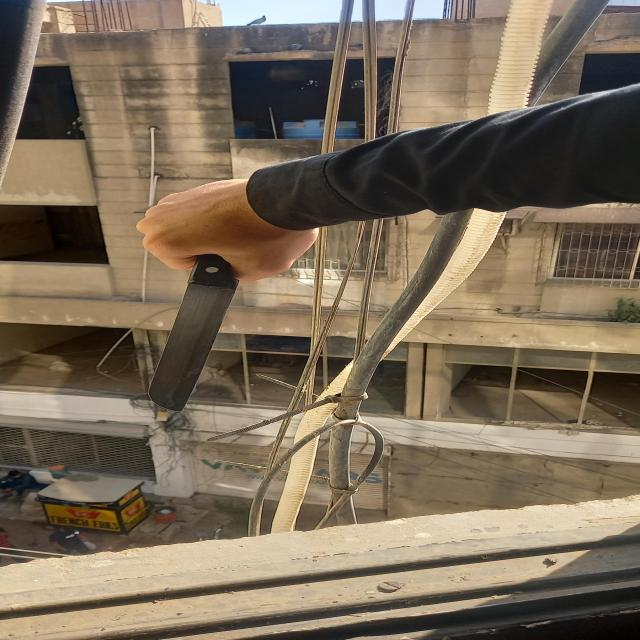knife: (146, 188, 265, 424)
